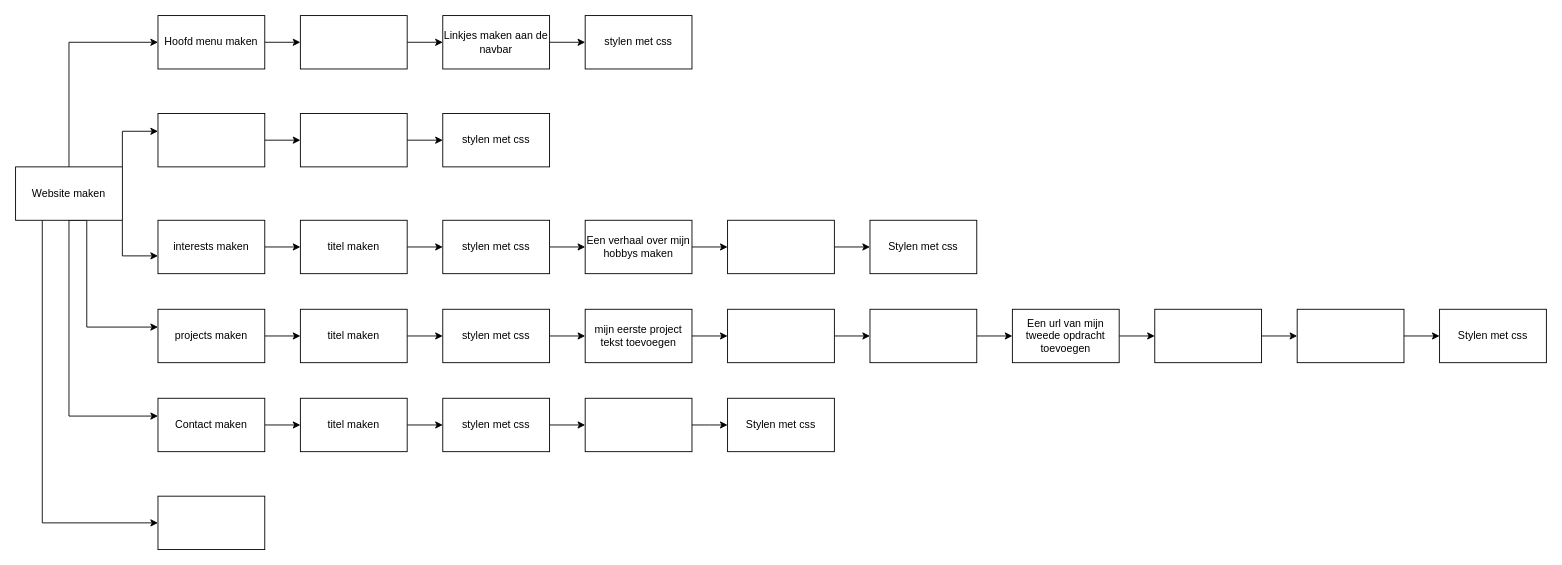
The diagram is 1562 pixels wide and 565 high, and some of its shapes have lost their labels. The shapes that lost their labels are listed below. From the top down, each one's centre as x and y in pixels, then its label:
pixel 353 42: navbar maken
pixel 211 140: About me maken
pixel 353 140: tekst maken
pixel 780 246: Een verhaal over mijn interesses maken
pixel 780 335: Een url van mijn eerste opdracht toevoegen
pixel 923 335: Mijn tweede project tekst toevoegen
pixel 1208 335: Mijn derde project tekst toevoegen
pixel 1350 335: Een url van mijn derde opdracht toevoegen
pixel 638 424: Een regel maken over hoe je in contact kan komen met mij
pixel 211 522: script.js maken
